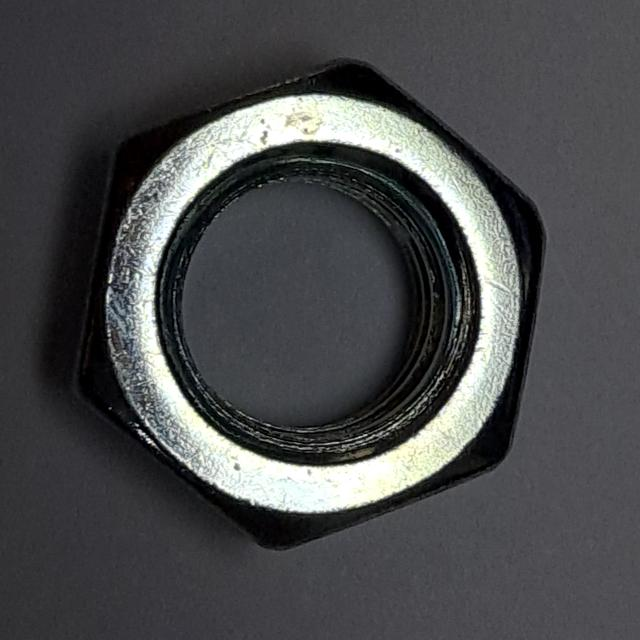Excellent: (55, 34, 559, 562)
